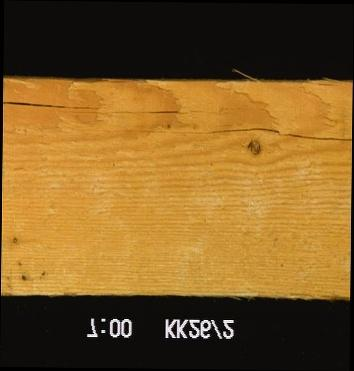small_knot: (9, 233, 18, 246)
sound_knot: (244, 138, 261, 157)
split: (2, 95, 237, 119), (89, 124, 351, 139)
